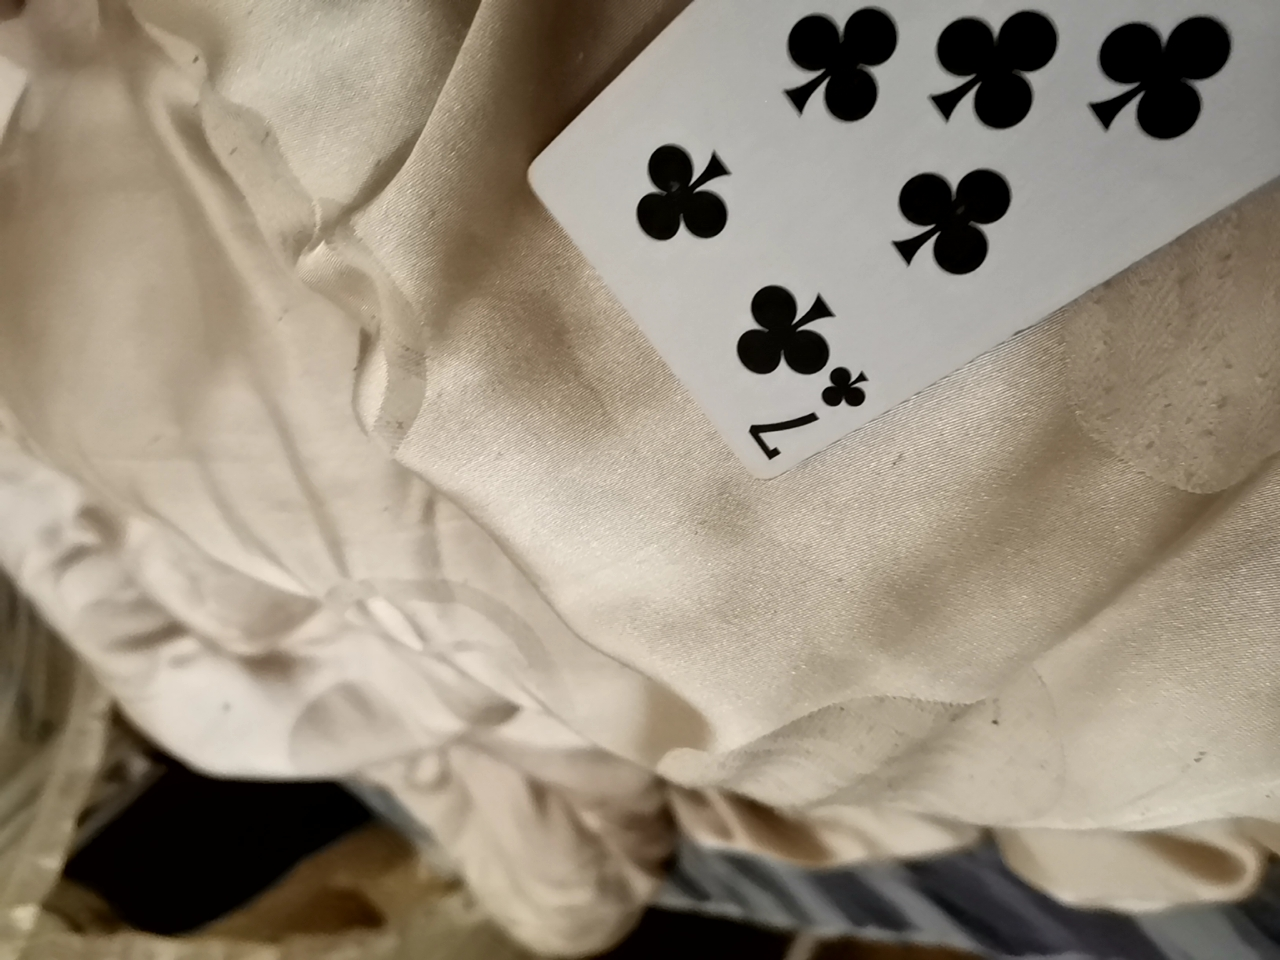mh 7: (502, 2, 1278, 480)
